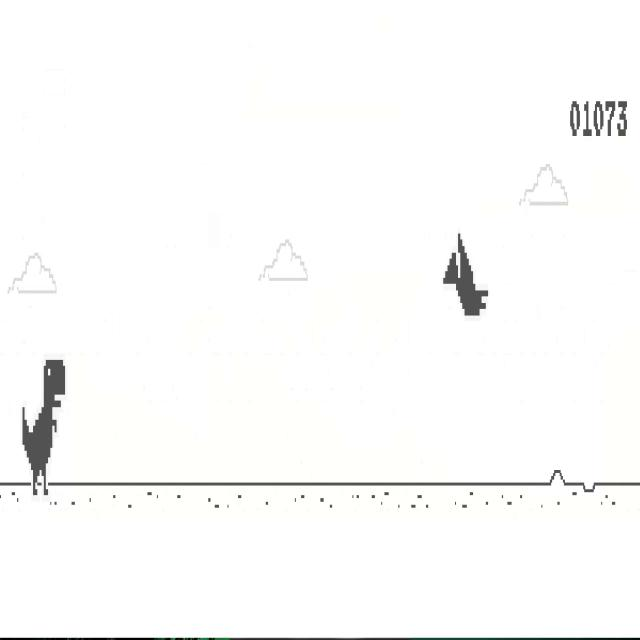dino: (21, 358, 66, 496)
ptero: (442, 231, 488, 317)
